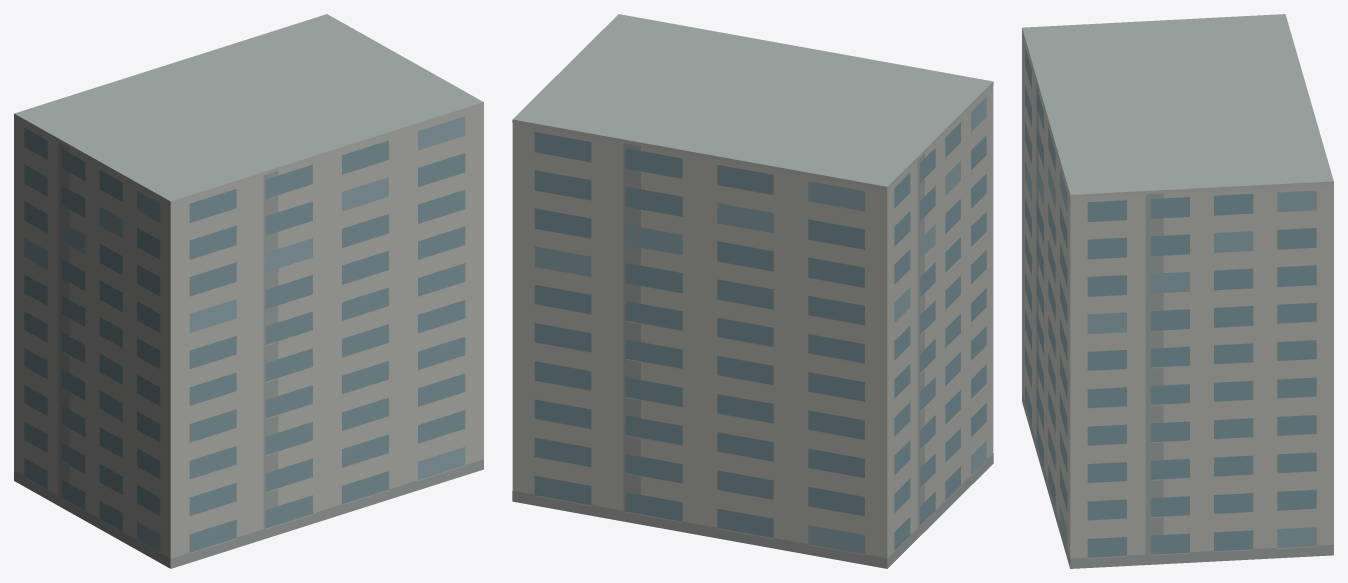
Rendered from residential-c1a60b30-6ff0-444a-987c-4632d9f00152.glb.
3 views of the same model, side by side, from view 1: azimuth 30°, elevation 25°; view 2: azimuth 150°, elevation 25°; view 3: azimuth 270°, elevation 25° (orthographic). The views are drawn at different scales.
Visible parts, largest first — view 1: residential-c1a60b30-6ff0-444a-987c-4632d9f00152.tmp; view 2: residential-c1a60b30-6ff0-444a-987c-4632d9f00152.tmp; view 3: residential-c1a60b30-6ff0-444a-987c-4632d9f00152.tmp.
Part boxes in pixels (x1=…): residential-c1a60b30-6ff0-444a-987c-4632d9f00152.tmp: x1=14, y1=14, x2=483, y2=568; residential-c1a60b30-6ff0-444a-987c-4632d9f00152.tmp: x1=512, y1=14, x2=993, y2=568; residential-c1a60b30-6ff0-444a-987c-4632d9f00152.tmp: x1=1022, y1=14, x2=1333, y2=568.
Bounding box in the file's own units: 28.01 × 27 × 20.41.
